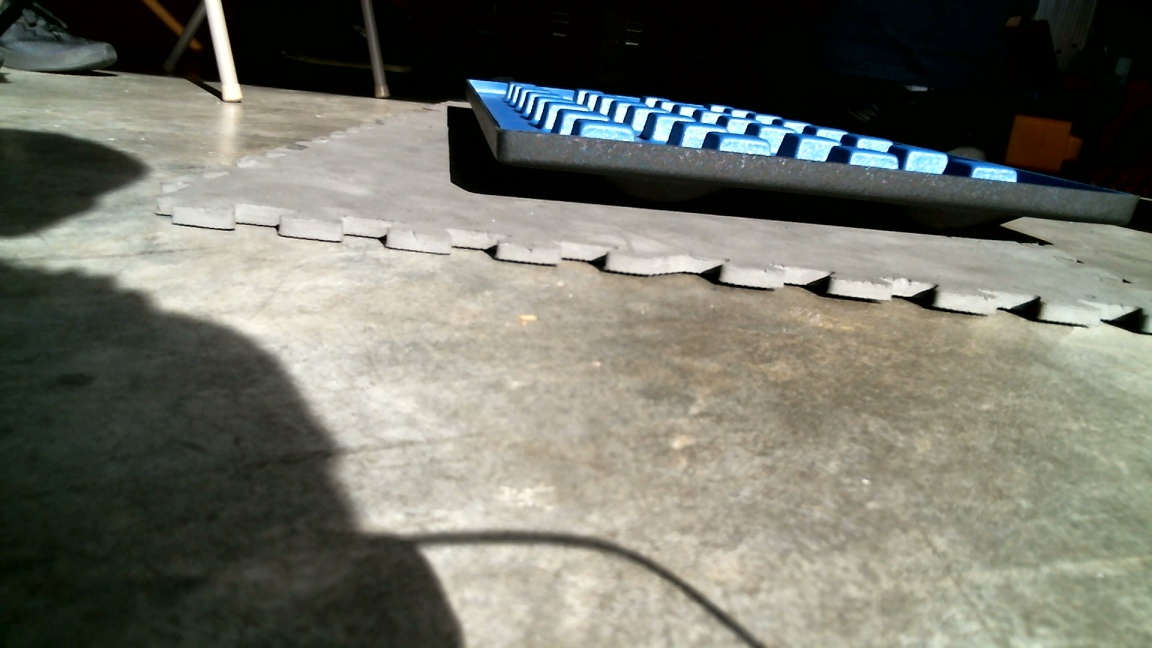blue_foundation: (475, 72, 1133, 238)
